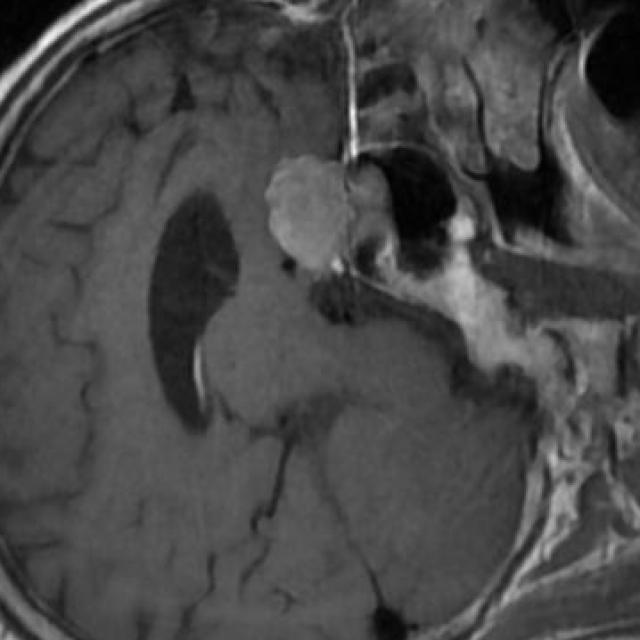pituitary: (266, 155, 396, 273)
